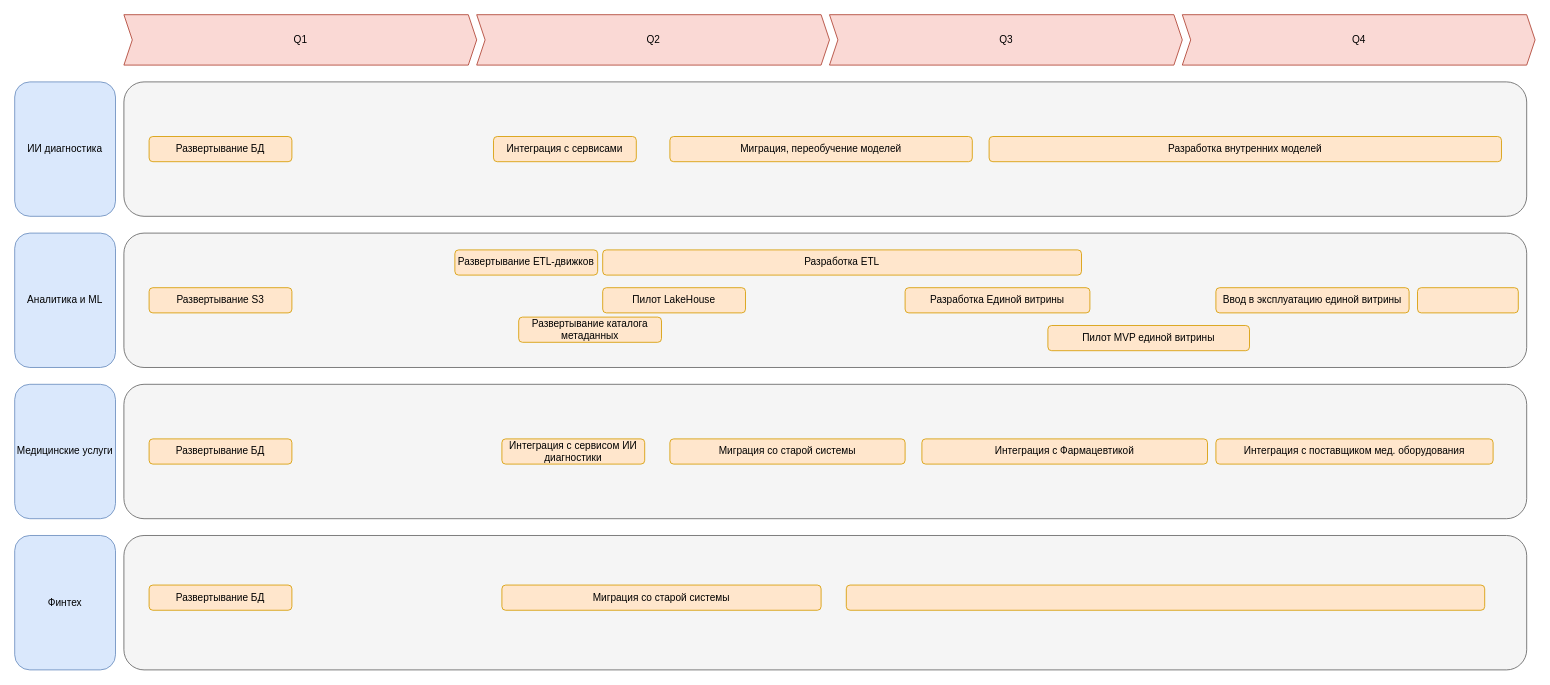
This 1550x685 diagram has some shape labels left out. Each missing label, with the centre of its shape:
"Вывод из эксплуатации DWH" belongs at (1467,300).
"Разработка новых фичей" belongs at (1165,597).
